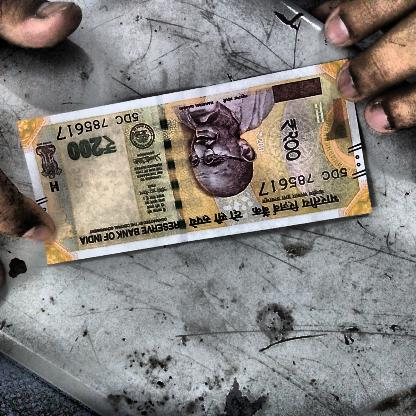Rs200: (59, 130, 121, 165)
